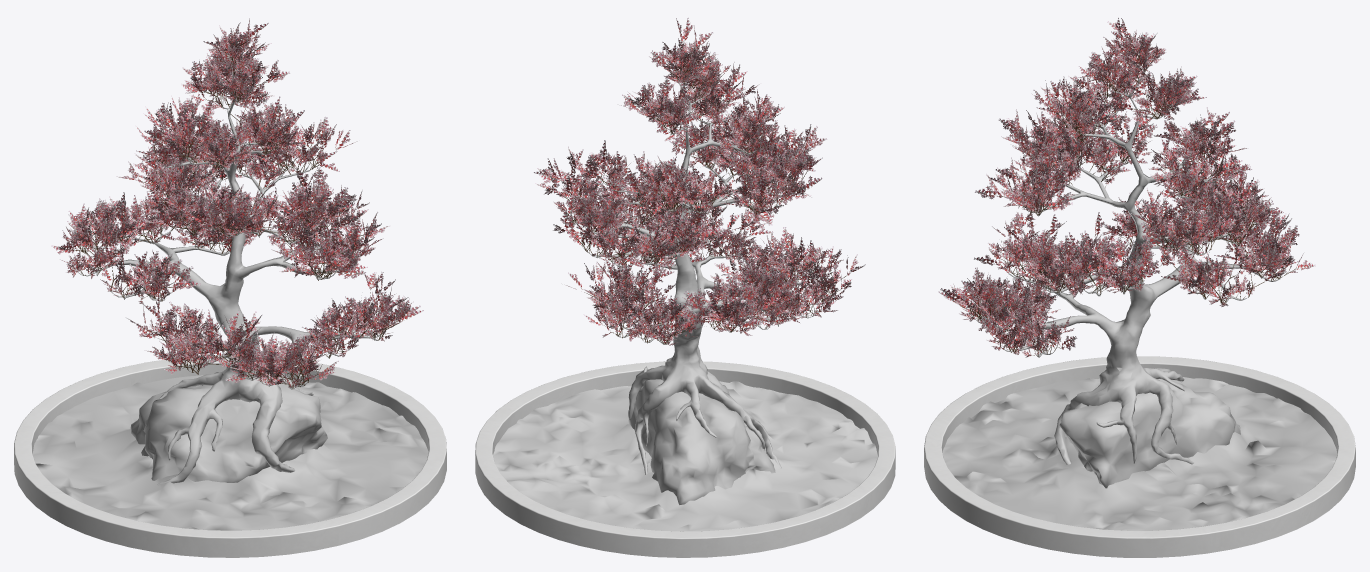
File: Center_Tree.fbx
3 renders of one model, left to right at view 1: azimuth 30°, elevation 25°; view 2: azimuth 150°, elevation 25°; view 3: azimuth 270°, elevation 25°, orthographic. The views are drawn at different scales.
Parts seen in each view (by area): view 1: BonsaiLeaves, Rock, CenterCircle, BonsaiTree; view 2: BonsaiLeaves, Rock, CenterCircle, BonsaiTree; view 3: BonsaiLeaves, Rock, CenterCircle, BonsaiTree.
Part boxes in pixels (x1,y1,x2,y2): BonsaiLeaves: [51, 18, 423, 388]; Rock: [32, 375, 428, 530]; CenterCircle: [14, 355, 446, 557]; BonsaiTree: [77, 58, 382, 485]; BonsaiLeaves: [534, 18, 865, 345]; Rock: [493, 369, 877, 531]; CenterCircle: [475, 361, 895, 557]; BonsaiTree: [565, 77, 829, 474]; BonsaiLeaves: [938, 18, 1315, 357]; Rock: [942, 368, 1337, 530]; CenterCircle: [924, 356, 1355, 557]; BonsaiTree: [971, 62, 1280, 464].
Bounding box in the file's own units: 671 × 785 × 673.
